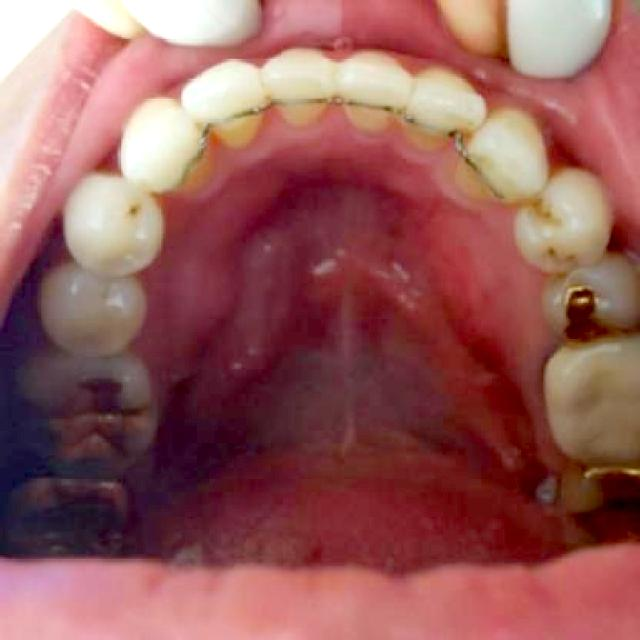Plaque: (517, 191, 565, 237), (110, 195, 156, 237), (534, 238, 585, 267)
